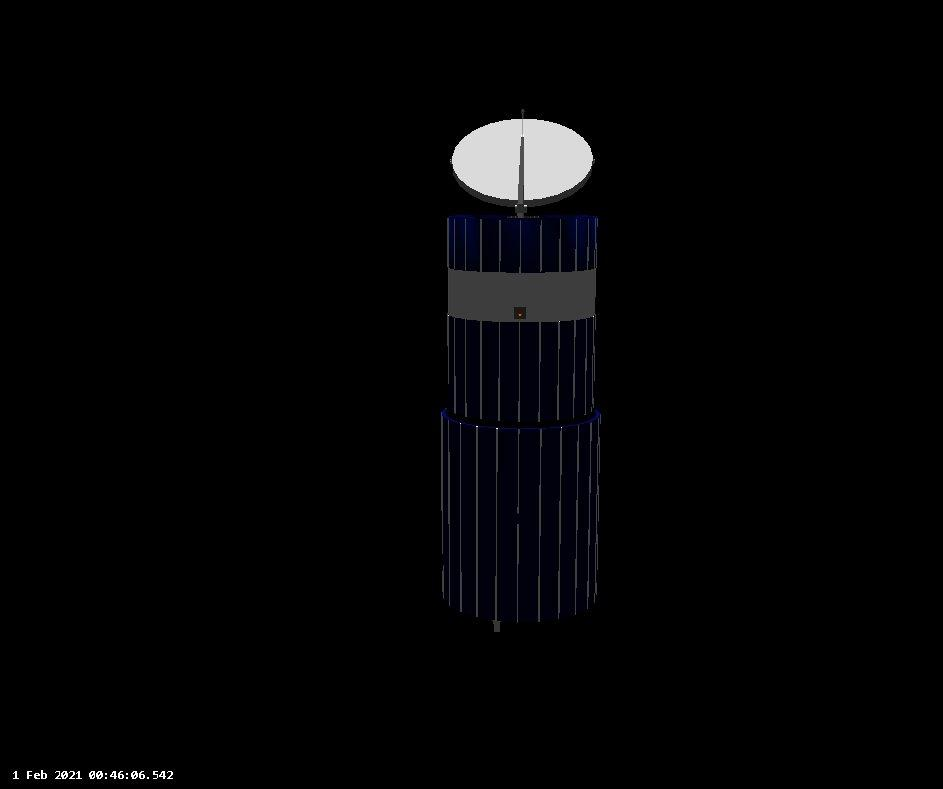antenna: (448, 117, 600, 209)
body: (434, 209, 605, 636)
